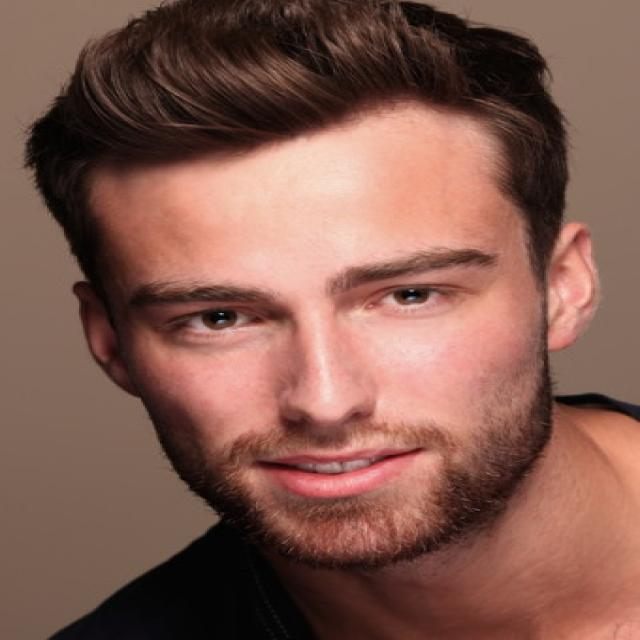human: (19, 1, 640, 640)
